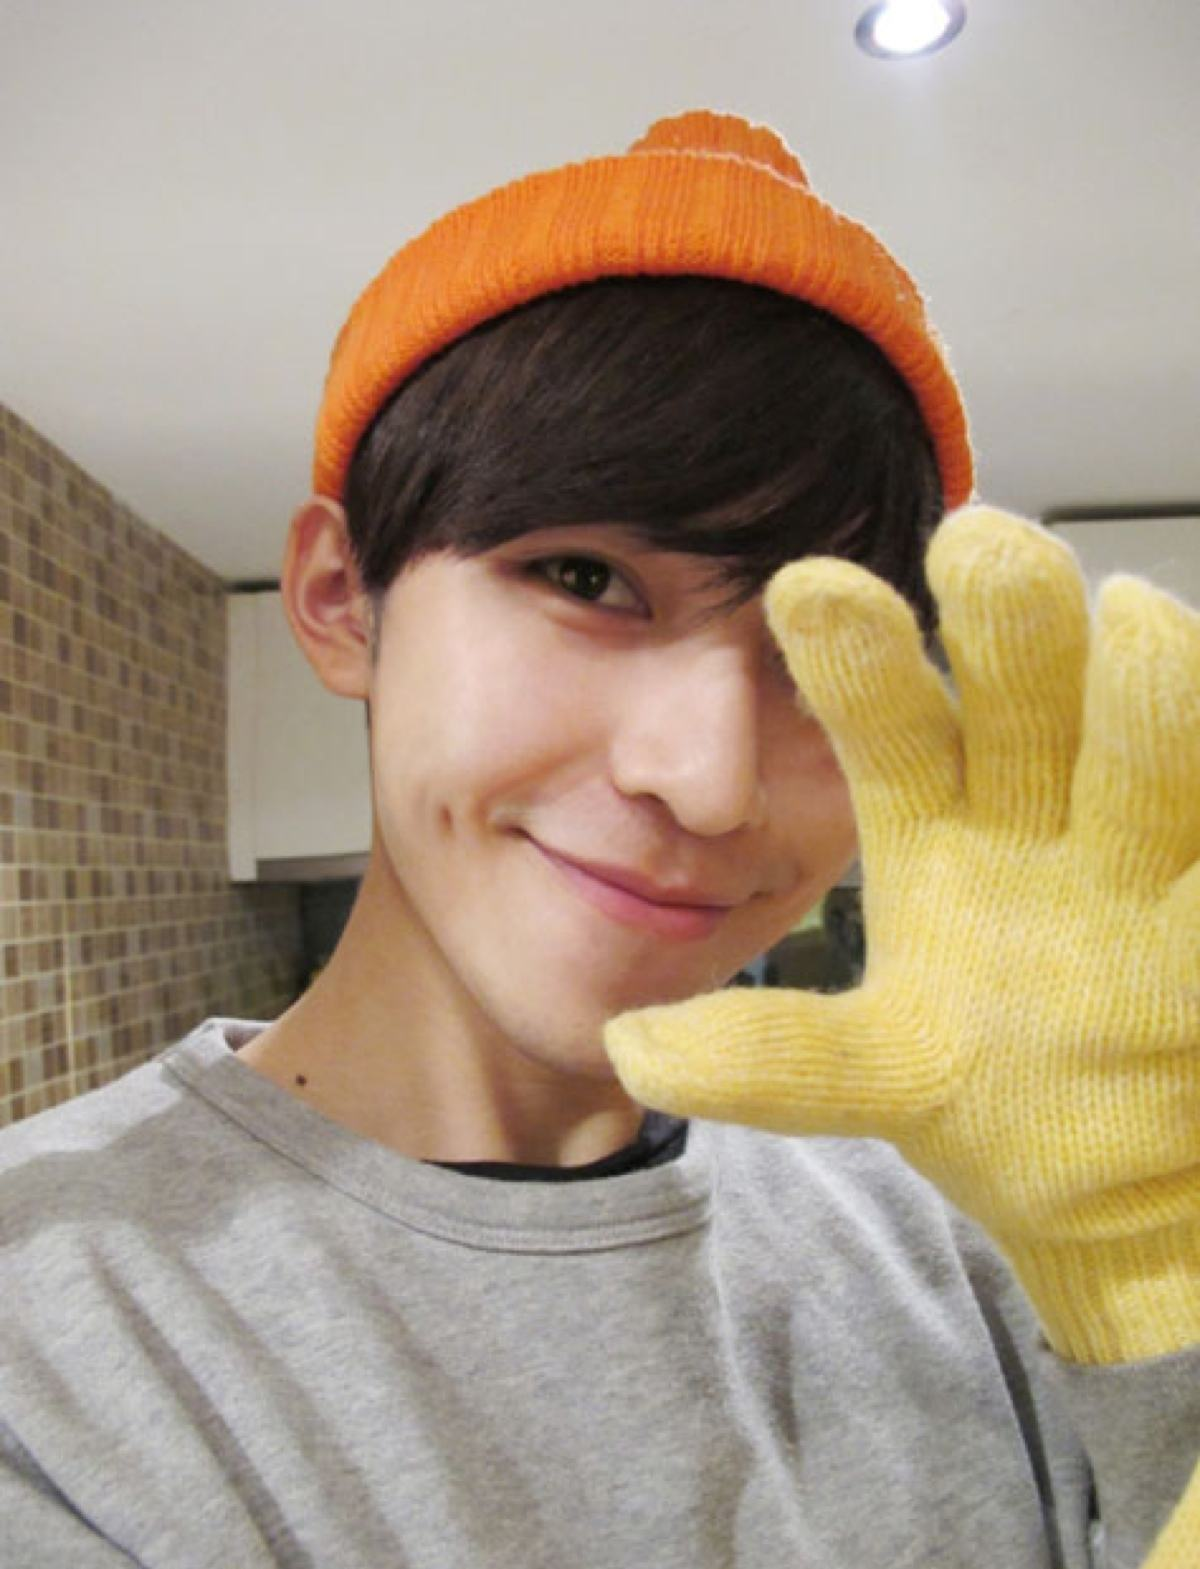person: (265, 159, 1038, 1274)
